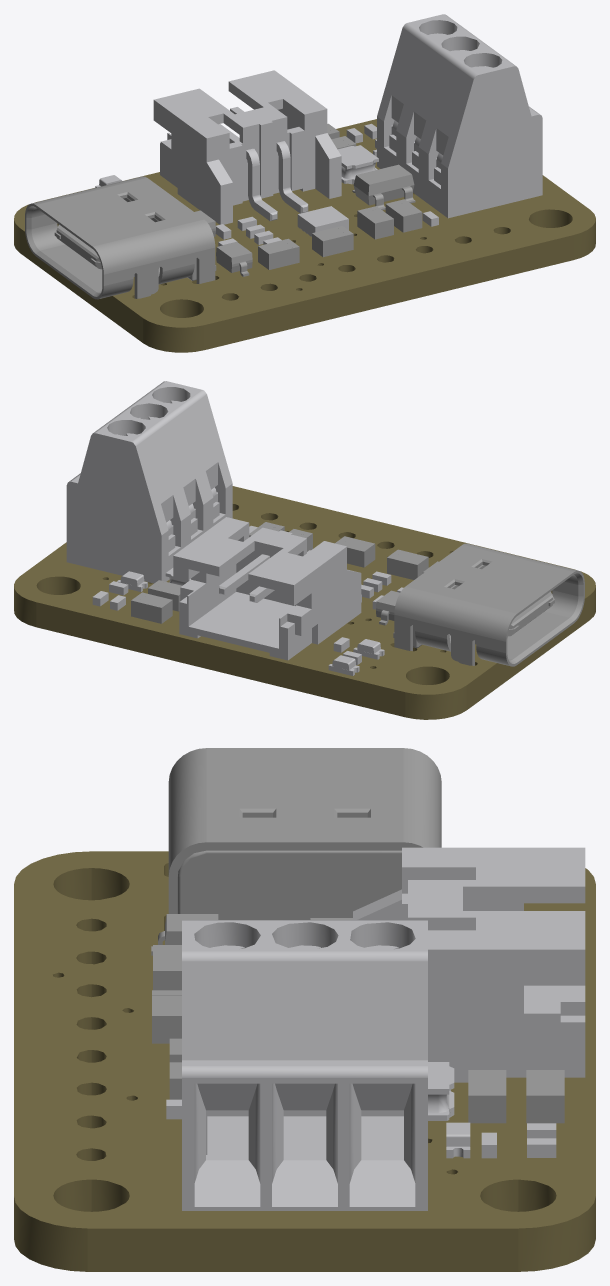
Rendered from ada-6092.glb.
The picture shows the model from 3 angles, top to bottom: view 1: azimuth 30°, elevation 25°; view 2: azimuth 150°, elevation 25°; view 3: azimuth 270°, elevation 25°; orthographic projection. The views are drawn at different scales.
Parts seen in each view (by area): view 1: 0.5833333333333334_0.5833333333333334_0.5833333333333334_0.8, 0.16666666666666666_0.16666666666666666_0.08333333333333333_, 0.3333333333333333_0.3333333333333333_0.3333333333333333_0; view 2: 0.5833333333333334_0.5833333333333334_0.5833333333333334_0.8, 0.16666666666666666_0.16666666666666666_0.08333333333333333_, 0.3333333333333333_0.3333333333333333_0.3333333333333333_0; view 3: 0.5833333333333334_0.5833333333333334_0.5833333333333334_0.8, 0.16666666666666666_0.16666666666666666_0.08333333333333333_, 0.3333333333333333_0.3333333333333333_0.3333333333333333_0.
Part boxes in pixels (x1,y1,x2,y2): 0.5833333333333334_0.5833333333333334_0.5833333333333334_0.8: (95,14,542,246); 0.16666666666666666_0.16666666666666666_0.08333333333333333_: (14,119,595,352); 0.3333333333333333_0.3333333333333333_0.3333333333333333_0: (25,123,422,299); 0.5833333333333334_0.5833333333333334_0.5833333333333334_0.8: (66,381,403,675); 0.16666666666666666_0.16666666666666666_0.08333333333333333_: (14,486,595,719); 0.3333333333333333_0.3333333333333333_0.3333333333333333_0: (131,522,584,666); 0.5833333333333334_0.5833333333333334_0.5833333333333334_0.8: (166,847,585,1210); 0.16666666666666666_0.16666666666666666_0.08333333333333333_: (14,851,595,1271); 0.3333333333333333_0.3333333333333333_0.3333333333333333_0: (151,748,564,1123).
Size of the model in its own units: 3.03 by 1.2 by 1.91.
